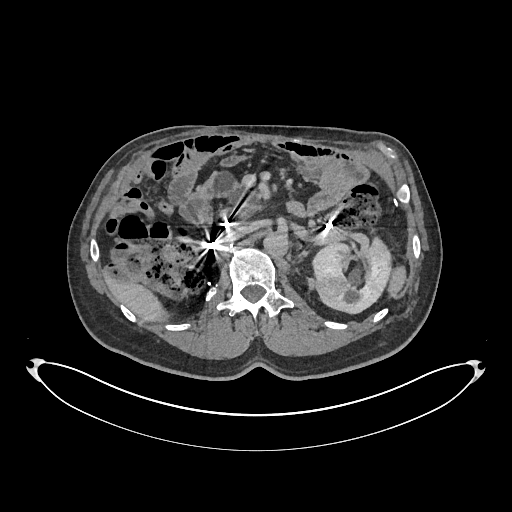Lesion: (315, 274, 347, 301)
